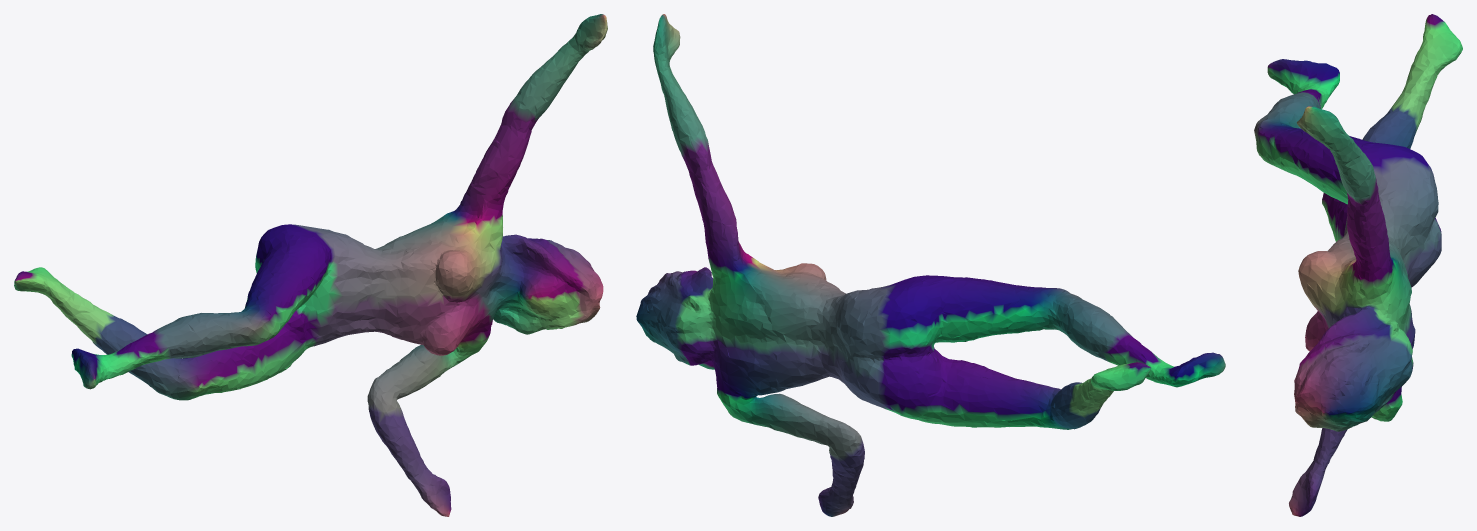
The model's file is woman-18.off.obj.
The picture shows the model from 3 angles, left to right: view 1: azimuth 30°, elevation 25°; view 2: azimuth 150°, elevation 25°; view 3: azimuth 270°, elevation 25°; orthographic projection. The views are drawn at different scales.
Bounding box in the file's own units: 1.45 × 1.18 × 0.4504.
